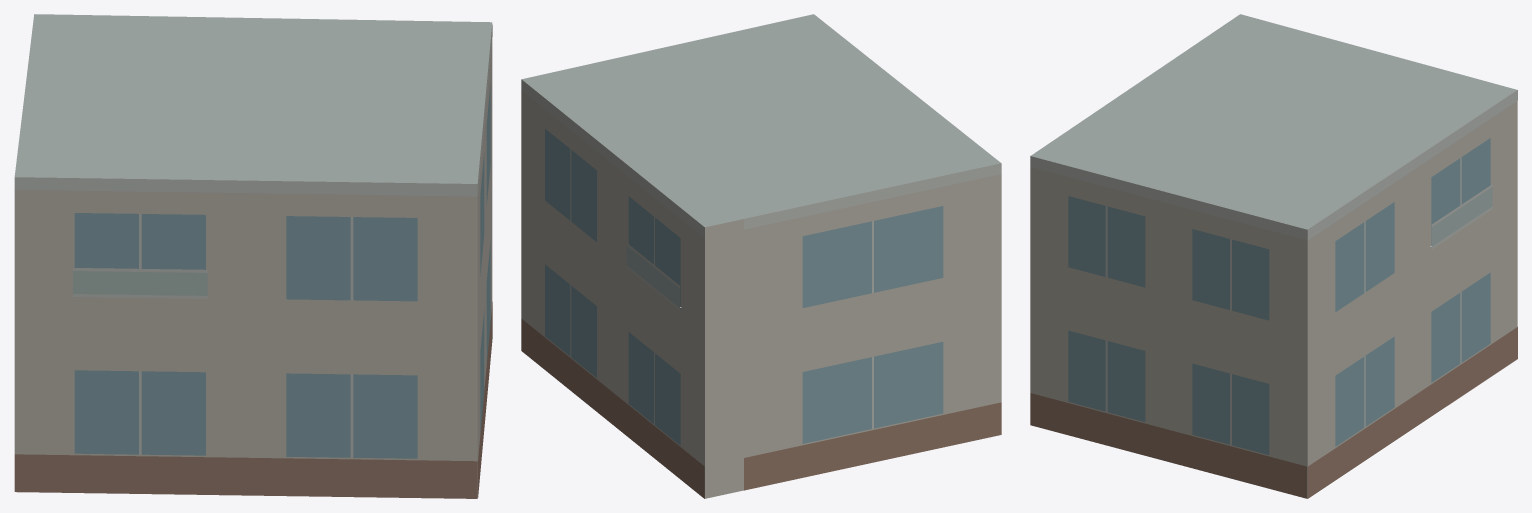
File: survey-upis-32481943.glb
3 views of the same model, side by side, from view 1: azimuth 30°, elevation 25°; view 2: azimuth 150°, elevation 25°; view 3: azimuth 270°, elevation 25° (orthographic). The views are drawn at different scales.
Visible parts, largest first — view 1: survey-upis-32481943.tmp; view 2: survey-upis-32481943.tmp; view 3: survey-upis-32481943.tmp.
Boxes of the visible parts, x1,y1,x2,y2 form: survey-upis-32481943.tmp: (14,14,492,498); survey-upis-32481943.tmp: (521,14,1001,498); survey-upis-32481943.tmp: (1030,14,1517,498).
Bounding box in the file's own units: 10.5 × 6.1 × 10.02.
